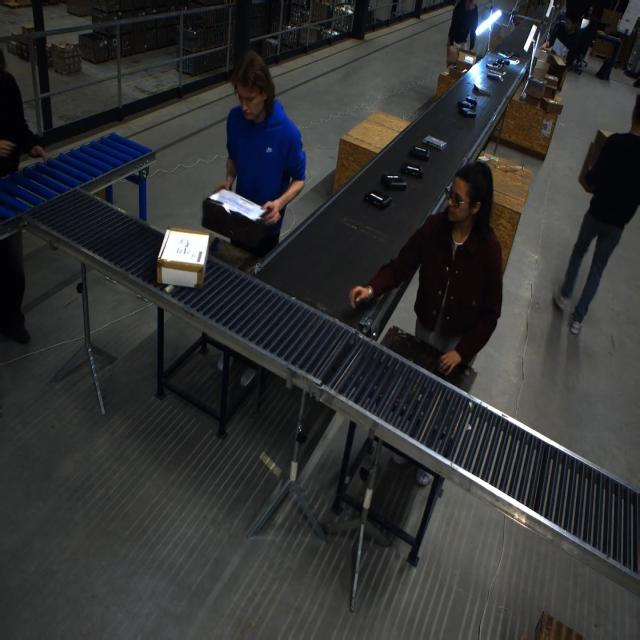box: (201, 190, 274, 254), (157, 227, 210, 288), (578, 129, 615, 186), (520, 79, 543, 106), (532, 48, 551, 78), (455, 49, 476, 72), (539, 95, 562, 115), (546, 50, 565, 74), (542, 78, 558, 100)
product: (363, 191, 392, 210), (381, 173, 407, 189), (401, 162, 424, 178), (422, 135, 446, 150), (409, 146, 430, 162), (457, 98, 476, 109), (486, 71, 504, 82), (486, 62, 505, 72), (459, 106, 476, 117), (497, 51, 513, 60), (493, 58, 509, 66)
